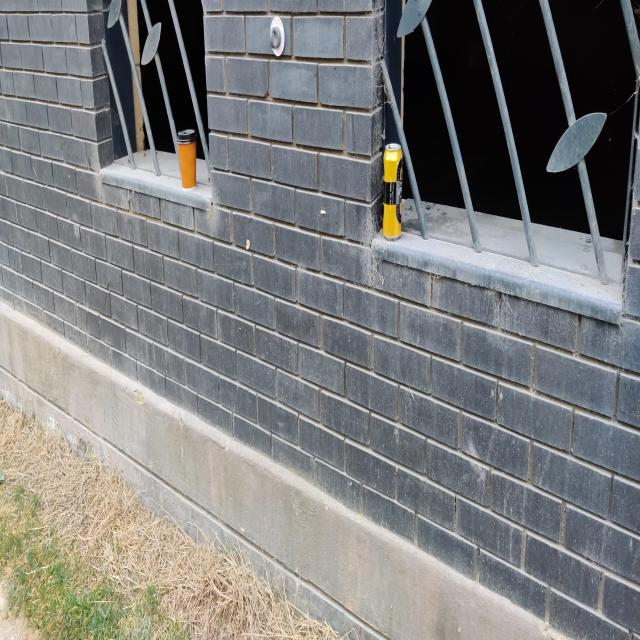litter: (382, 143, 403, 241), (177, 140, 196, 190), (177, 128, 197, 142)
